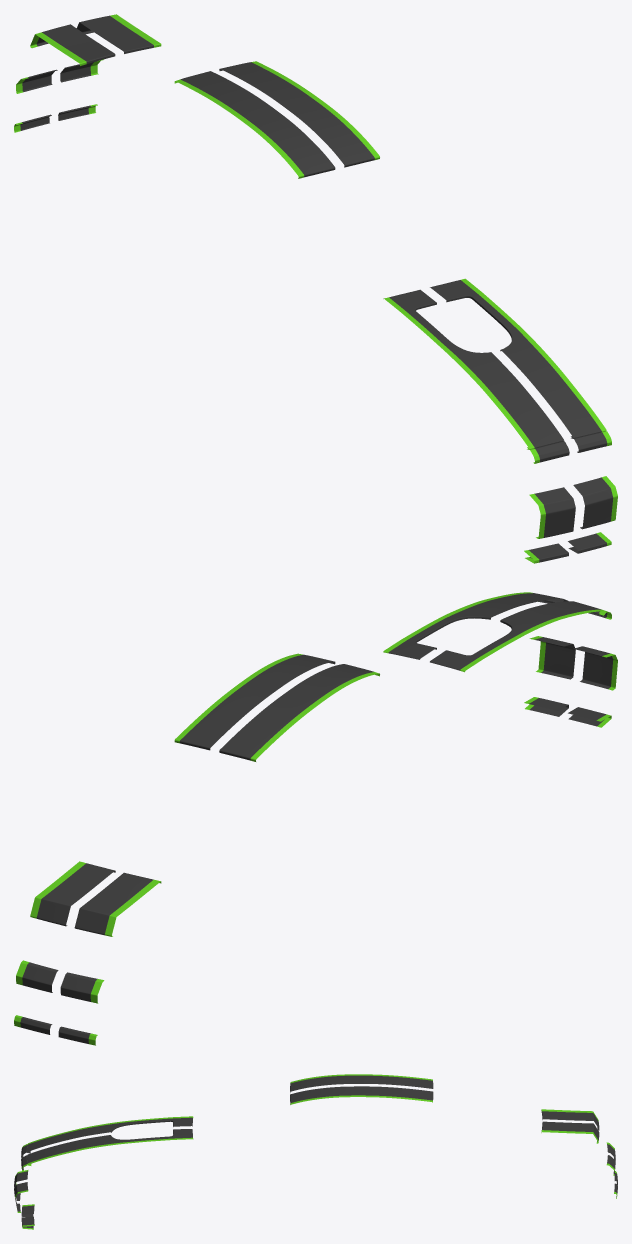
The model's file is Ford_Mustang_PZ_stripes.fbx.
3 renders of one model, top to bottom at view 1: azimuth 30°, elevation 25°; view 2: azimuth 150°, elevation 25°; view 3: azimuth 270°, elevation 25°, orthographic. The views are drawn at different scales.
Parts seen in each view (by area): view 1: stripes; view 2: stripes; view 3: stripes.
Boxes of the visible parts, x1,y1,x2,y2 form: stripes: (14, 14, 617, 563); stripes: (14, 592, 617, 1045); stripes: (14, 1074, 617, 1229).
Size of the model in its own units: 43.35 by 118 by 483.
